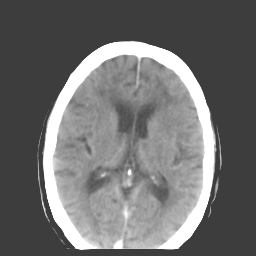ischemic: (147, 116, 159, 131)
